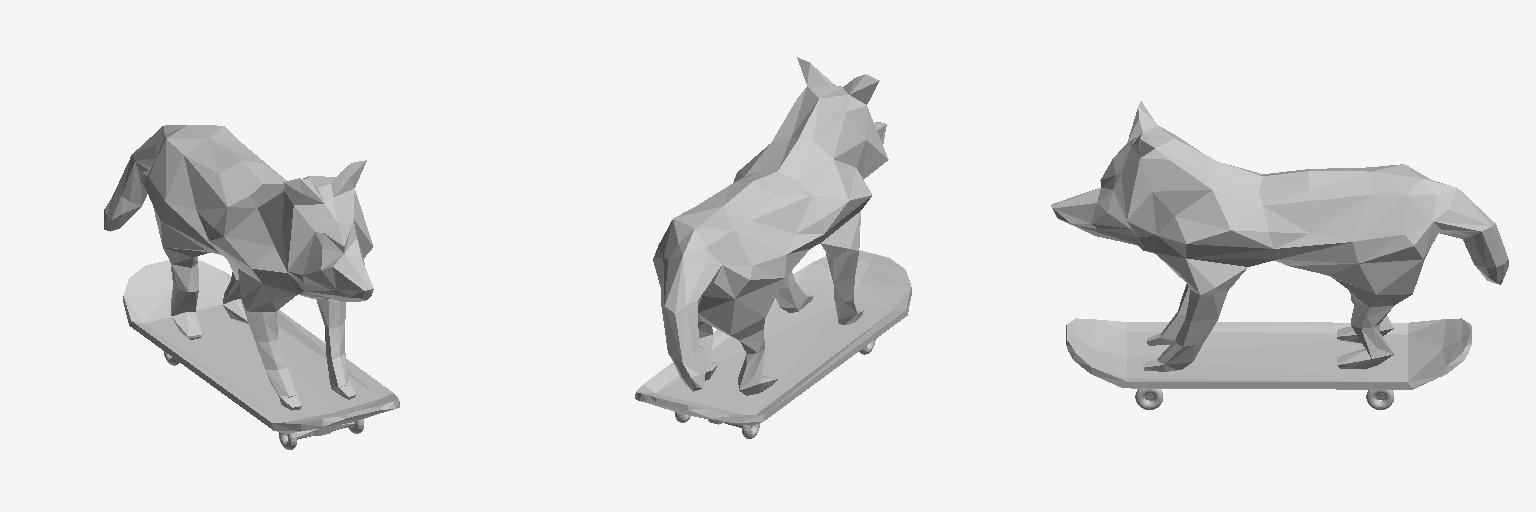
File: Fuchs19.obj
3 renders of one model, left to right at view 1: azimuth 30°, elevation 25°; view 2: azimuth 150°, elevation 25°; view 3: azimuth 270°, elevation 25°, orthographic.
Bounding box in the file's own units: 3.58 × 7.68 × 11.61.